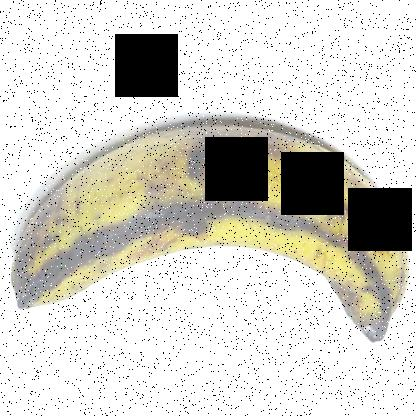overripe: (1, 86, 415, 360)
